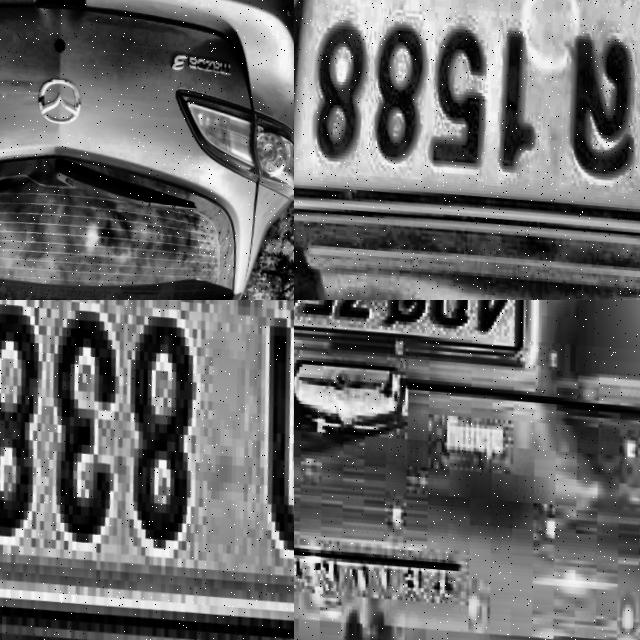license-plate: (294, 0, 640, 300), (0, 300, 294, 640), (294, 300, 531, 364)
